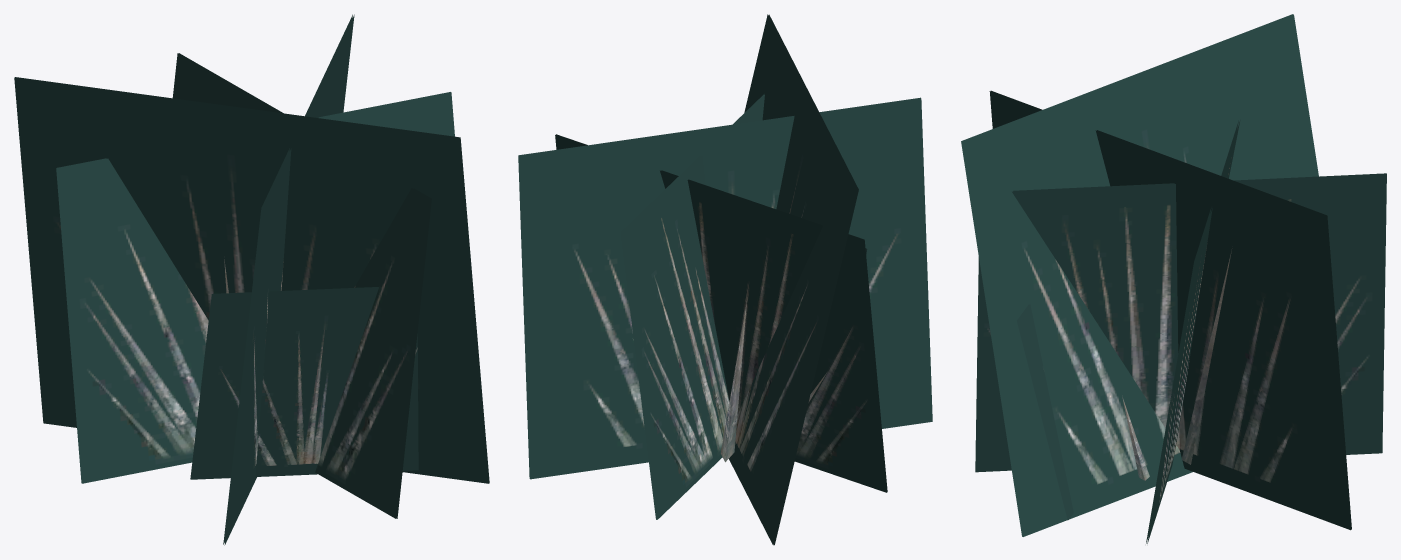
File: rock_crystl_shrpbush_sm_l1.fbx
3 views of the same model, side by side, from view 1: azimuth 30°, elevation 25°; view 2: azimuth 150°, elevation 25°; view 3: azimuth 270°, elevation 25° (orthographic). The views are drawn at different scales.
Visible parts, largest first — view 1: mesh_node; view 2: mesh_node; view 3: mesh_node.
Part boxes in pixels (x1=…): mesh_node: x1=14, y1=14, x2=489, y2=545; mesh_node: x1=518, y1=14, x2=932, y2=545; mesh_node: x1=961, y1=14, x2=1386, y2=543.
Size of the model in its own units: 1.74 by 1.65 by 1.73.
